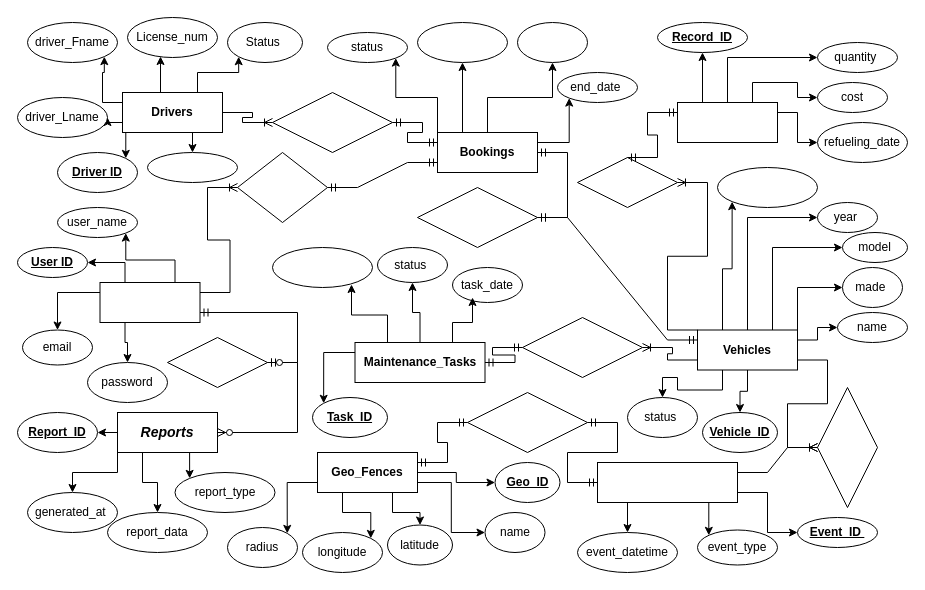
Some shapes in this 925 by 590 pixel diagram are drawn without their labels. Each missing label, with the centre of its shape:
"assigned to" goes at (x=477, y=217).
"Booking_ID" goes at (x=462, y=42).
"Contact_num" goes at (x=192, y=167).
"create" goes at (x=282, y=187).
"define" goes at (x=527, y=422).
"drive" goes at (x=332, y=122).
"Fuel_Records" goes at (x=727, y=122).
"generate" goes at (x=217, y=362).
"Geo_Fence_Events" goes at (x=667, y=482).
"have" goes at (x=627, y=182).
"registration_num" goes at (x=767, y=187).
"require" goes at (x=582, y=347).
"start_date" goes at (x=552, y=42).
"task_description" goes at (x=322, y=267).
"trigger event in" goes at (x=847, y=447).
"Users" goes at (x=149, y=302).
